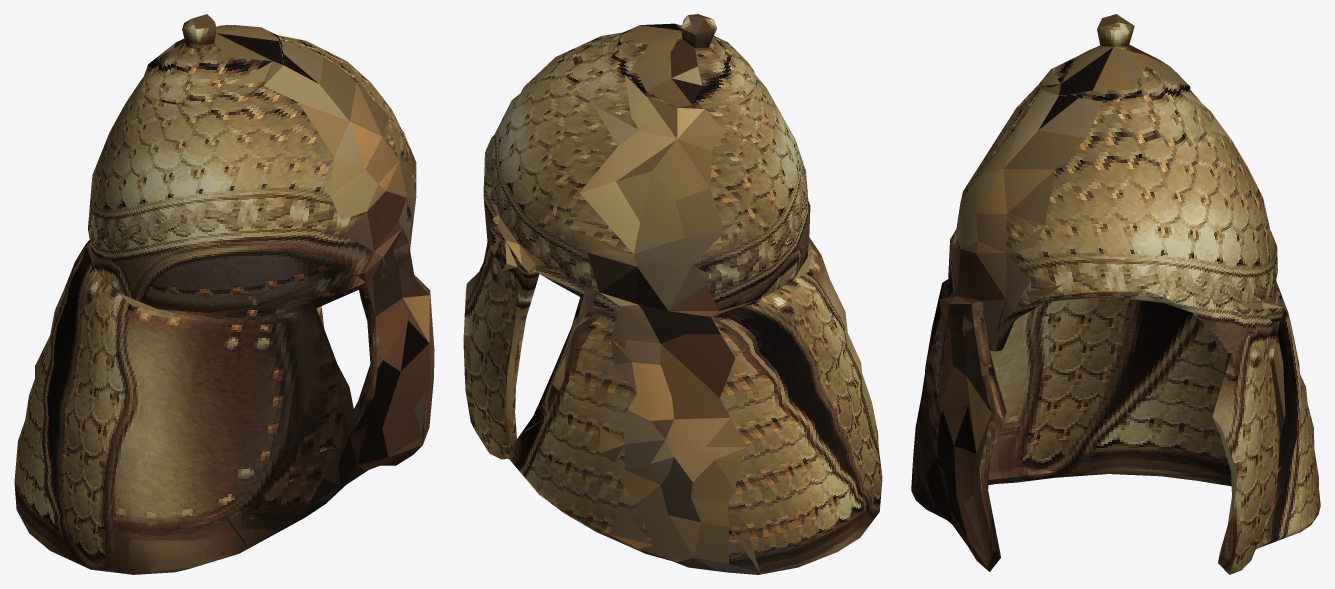
The model's file is mascara_culto.glb.
3 renders of one model, left to right at view 1: azimuth 30°, elevation 25°; view 2: azimuth 150°, elevation 25°; view 3: azimuth 270°, elevation 25°, orthographic. The views are drawn at different scales.
Visible parts, largest first — view 1: armadura.casco.mascara_culto; view 2: armadura.casco.mascara_culto; view 3: armadura.casco.mascara_culto.
Part boxes in pixels (bbox=[...]): armadura.casco.mascara_culto: bbox=[14, 14, 434, 574]; armadura.casco.mascara_culto: bbox=[463, 14, 882, 574]; armadura.casco.mascara_culto: bbox=[911, 14, 1320, 574].
Bounding box in the file's own units: 0.2741 × 0.3668 × 0.2539.
1 material, 1 textured.
